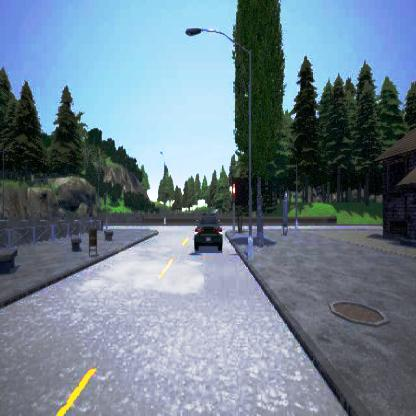vehicle: (194, 212, 222, 250)
